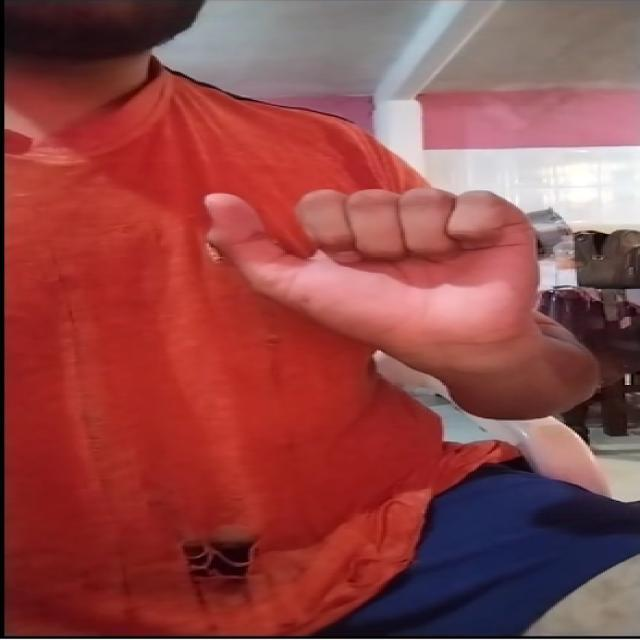A: (192, 165, 610, 368)
